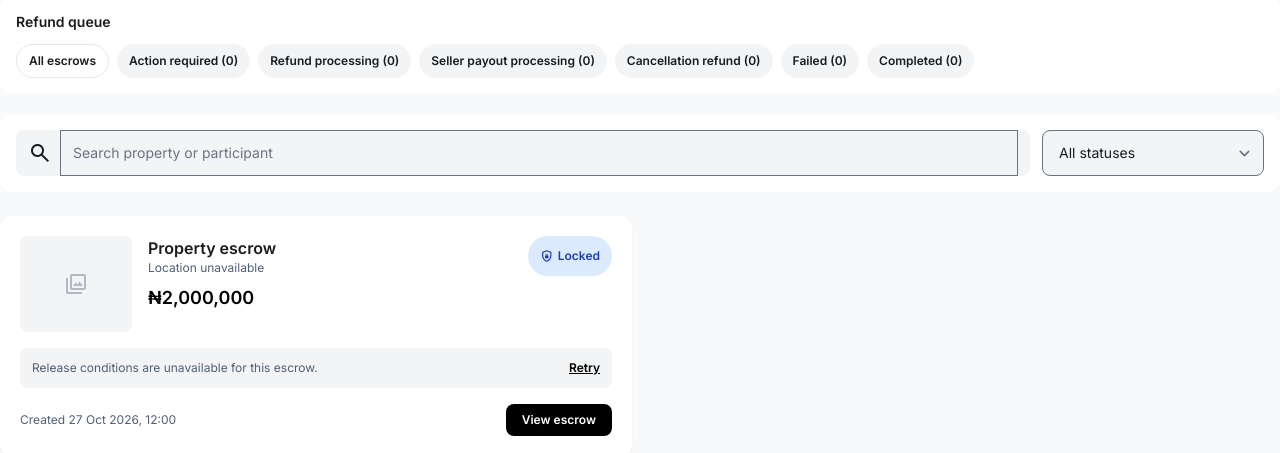
Test: EscrowList › shows a retry after detail loading fails and clears the stuck loading state
Click the button "Retry".
click(584, 368)  # box [569, 360, 600, 376]
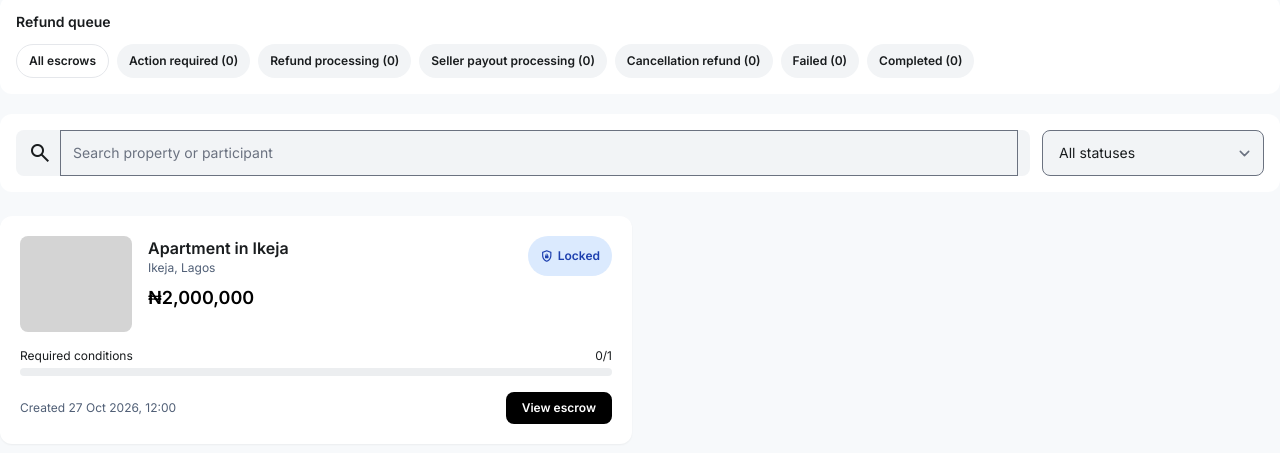
Check: the text "0/1" is shown, box [595, 348, 612, 364]
